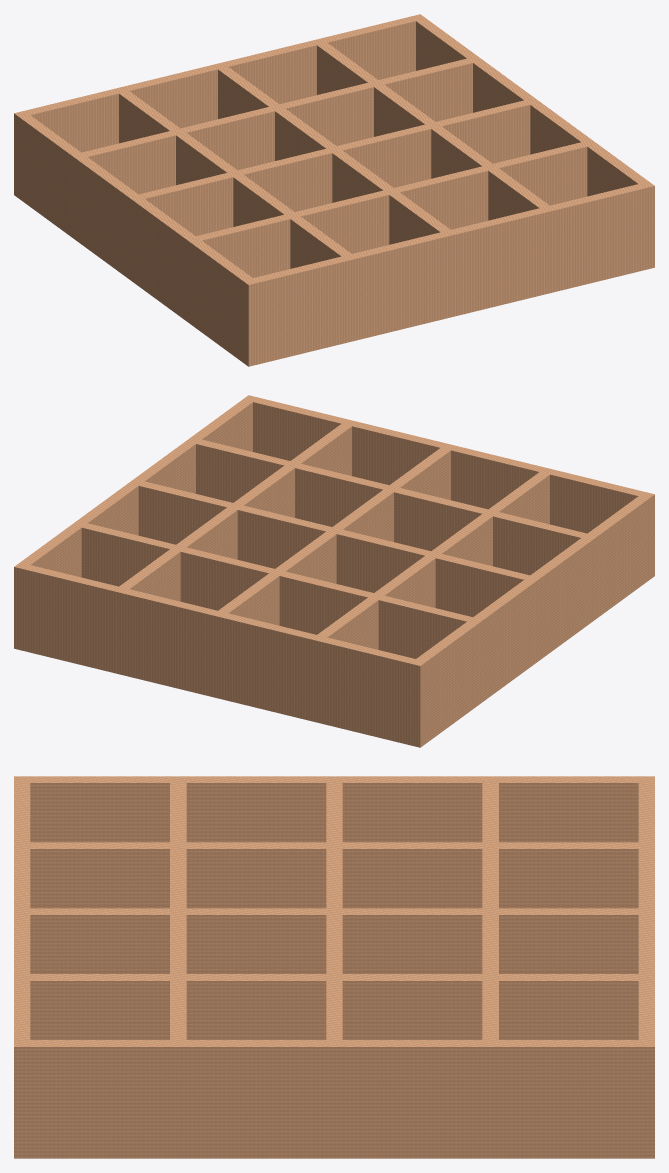
The model's file is estante.obj.
The picture shows the model from 3 angles, top to bottom: view 1: azimuth 30°, elevation 25°; view 2: azimuth 150°, elevation 25°; view 3: azimuth 270°, elevation 25°; orthographic projection. The views are drawn at different scales.
Parts seen in each view (by area): view 1: Estanteria; view 2: Estanteria; view 3: Estanteria.
Boxes of the visible parts, box(x1,y1,x2,y2) form: Estanteria: box(14, 14, 654, 366); Estanteria: box(14, 395, 654, 747); Estanteria: box(14, 776, 654, 1158).
Size of the model in its own units: 156 by 30 by 156.
Materials: 1 (1 with a texture image).
